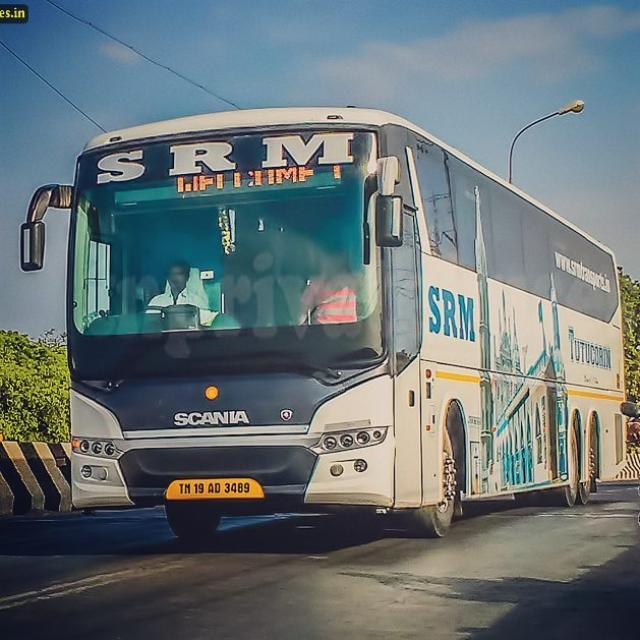Bus: (13, 100, 635, 542)
